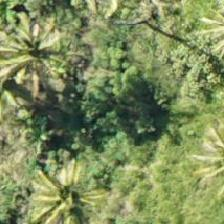coconut_tree: (0, 5, 74, 95), (21, 155, 111, 223)
